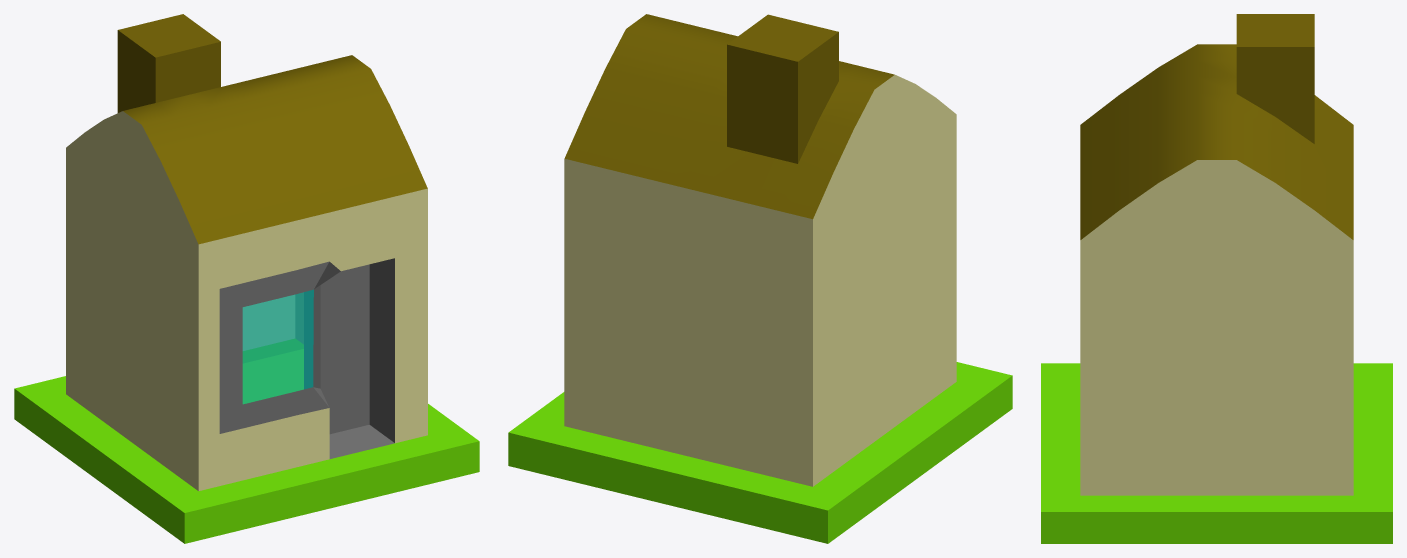
The model's file is House.fbx.
3 views of the same model, side by side, from view 1: azimuth 30°, elevation 25°; view 2: azimuth 150°, elevation 25°; view 3: azimuth 270°, elevation 25° (orthographic). The views are drawn at different scales.
Visible parts, largest first — view 1: Grass; view 2: Grass; view 3: Grass.
Part boxes in pixels (bbox=[...]): Grass: bbox=[14, 14, 479, 543]; Grass: bbox=[508, 14, 1012, 543]; Grass: bbox=[1041, 14, 1392, 543].
Bounding box in the file's own units: 10 × 13 × 10.
